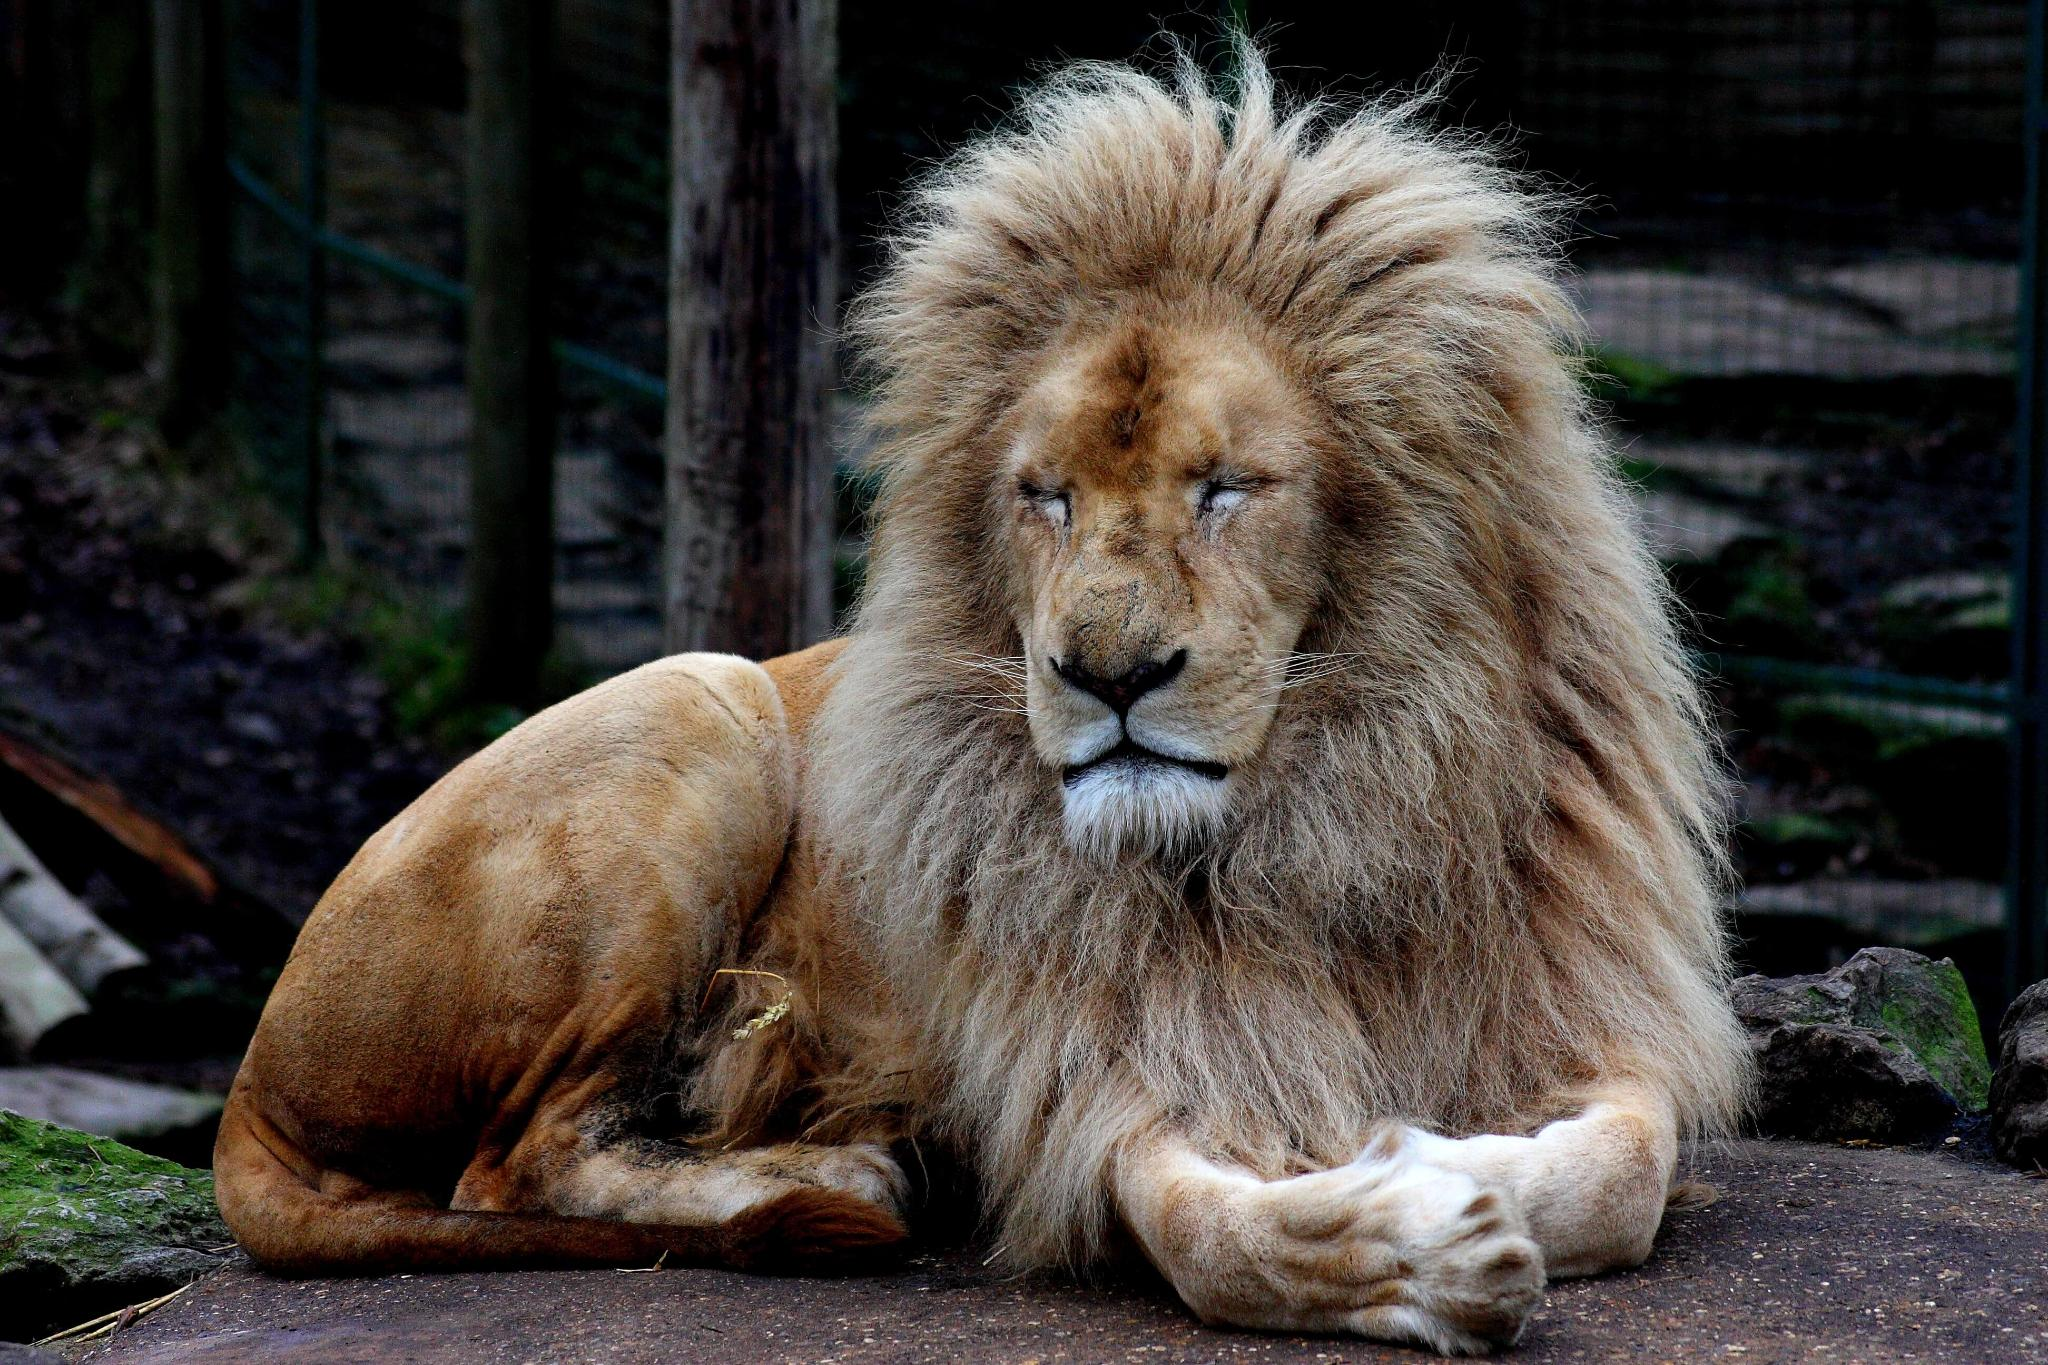lions: (30, 0, 2048, 1365)
